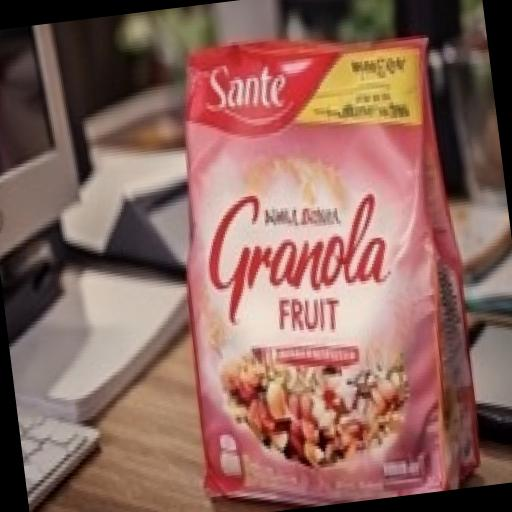granola: (125, 0, 512, 512)
